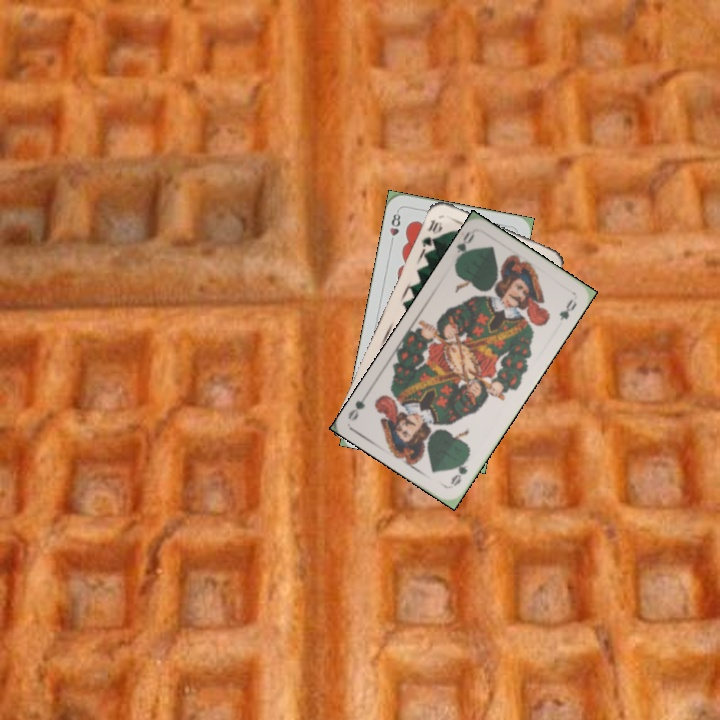G10: (417, 215, 445, 252)
GO: (451, 227, 477, 266), (446, 452, 472, 489)
H8: (386, 207, 403, 247)
